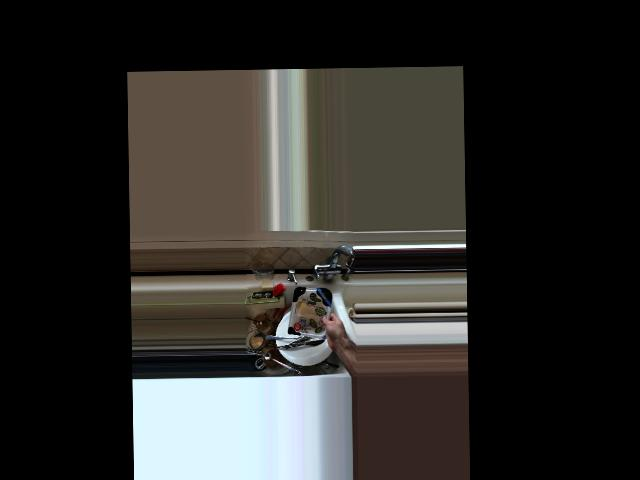cheese: (288, 282, 345, 347)
